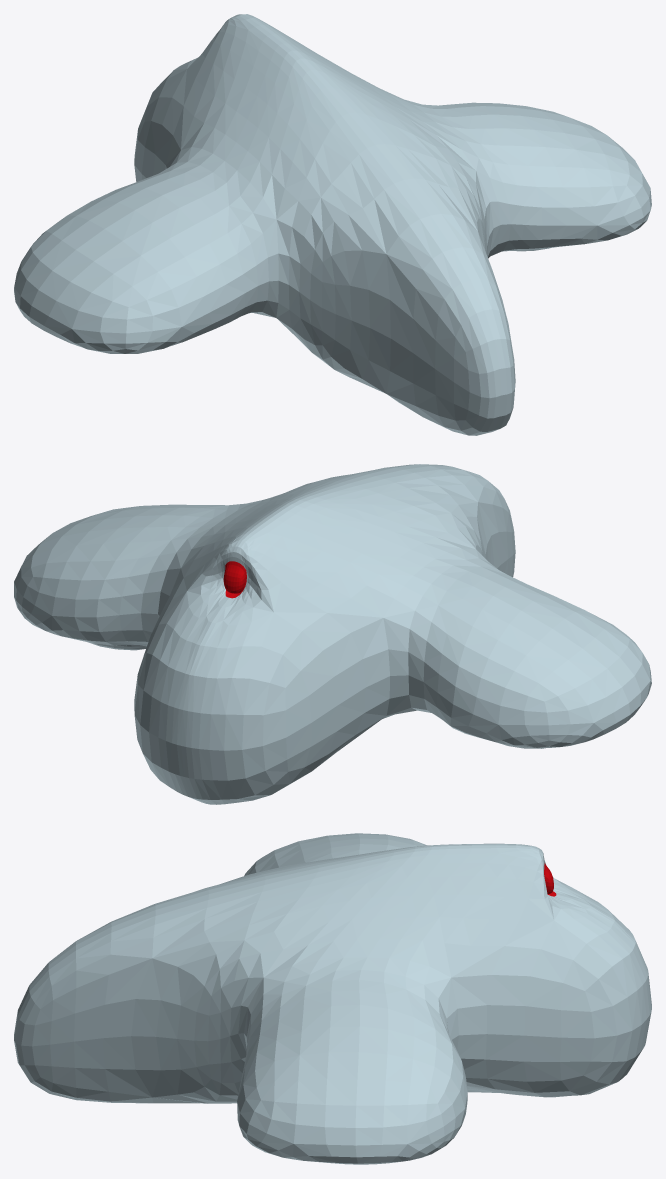
Rendered from Drone.fbx.
3 views of the same model, one above another, from view 1: azimuth 30°, elevation 25°; view 2: azimuth 150°, elevation 25°; view 3: azimuth 270°, elevation 25° (orthographic).
Parts seen in each view (by area): view 1: Cube; view 2: Cube; view 3: Cube.
Boxes of the visible parts, x1=… form: Cube: x1=14, y1=14, x2=651, y2=435; Cube: x1=14, y1=464, x2=651, y2=804; Cube: x1=14, y1=833, x2=651, y2=1164.
Size of the model in its own units: 7.15 by 2.85 by 6.6.
